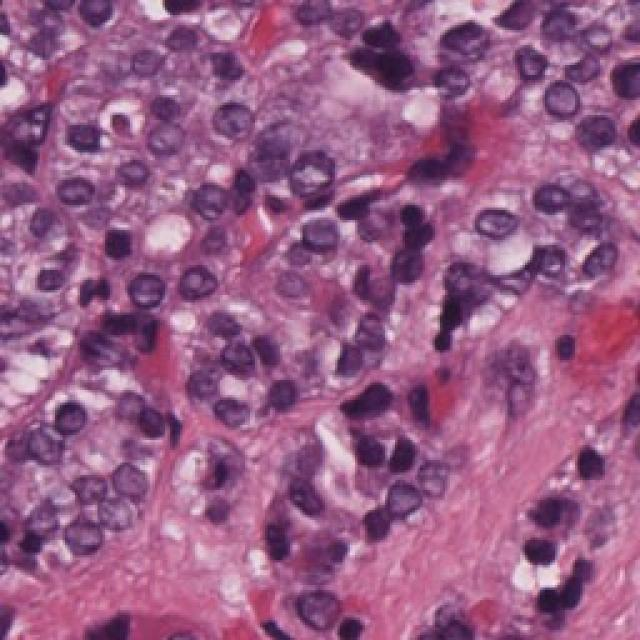abnormal: (516, 62, 616, 151), (39, 143, 118, 237), (283, 135, 359, 229), (281, 577, 393, 640), (26, 378, 110, 462), (182, 155, 256, 247), (457, 182, 535, 266), (179, 243, 251, 321), (122, 245, 180, 334), (437, 12, 505, 87), (206, 85, 273, 159), (370, 458, 433, 534), (130, 114, 206, 172), (83, 489, 150, 553), (25, 0, 127, 28)
